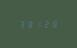eight: (26, 20, 33, 28), (50, 19, 57, 27)
one: (34, 20, 41, 27)
three: (18, 20, 25, 28)
two: (42, 19, 49, 27)
